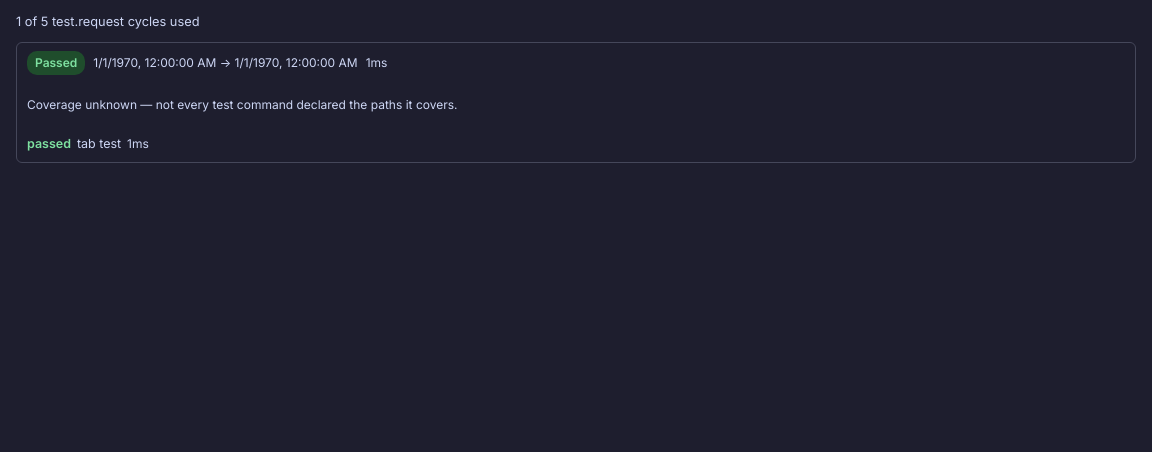
Test: per-test history navigation › opens history from TestsTab per-test rows
Click the button with test id "test-result-tab1": (88, 144) [27,136,149,151]
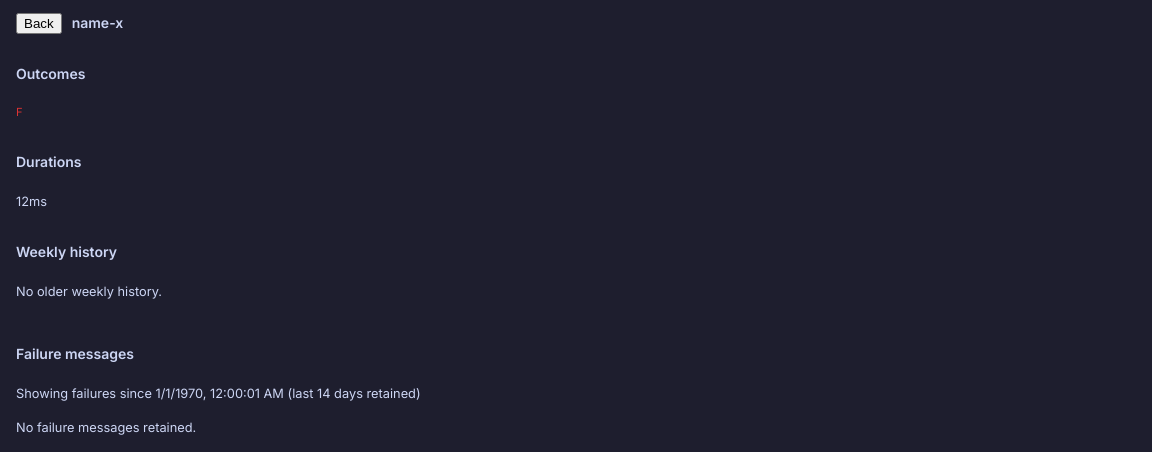
Expected: the element with test id "test-history-view" is shown, [16,13,421,435]
